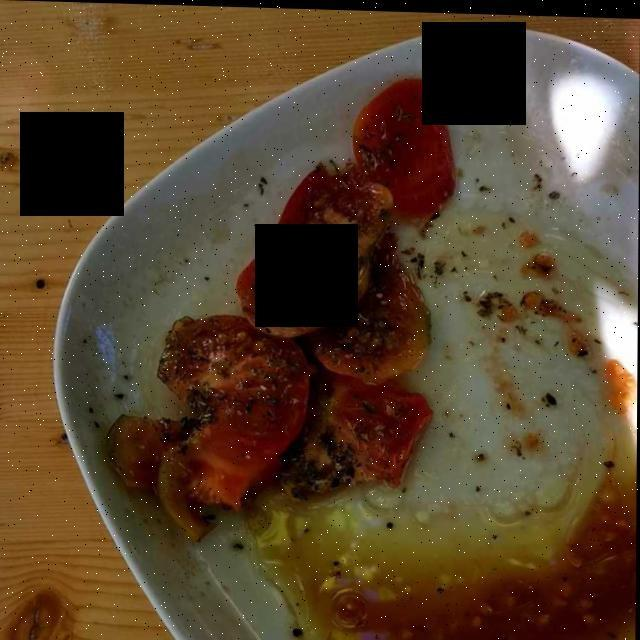salad: (297, 429, 627, 634)
tomato: (115, 70, 472, 530)
